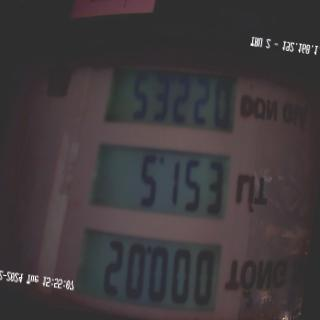screen: (64, 41, 254, 320)
